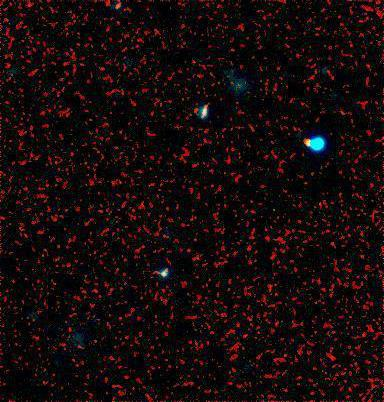star: (292, 125, 322, 155)
